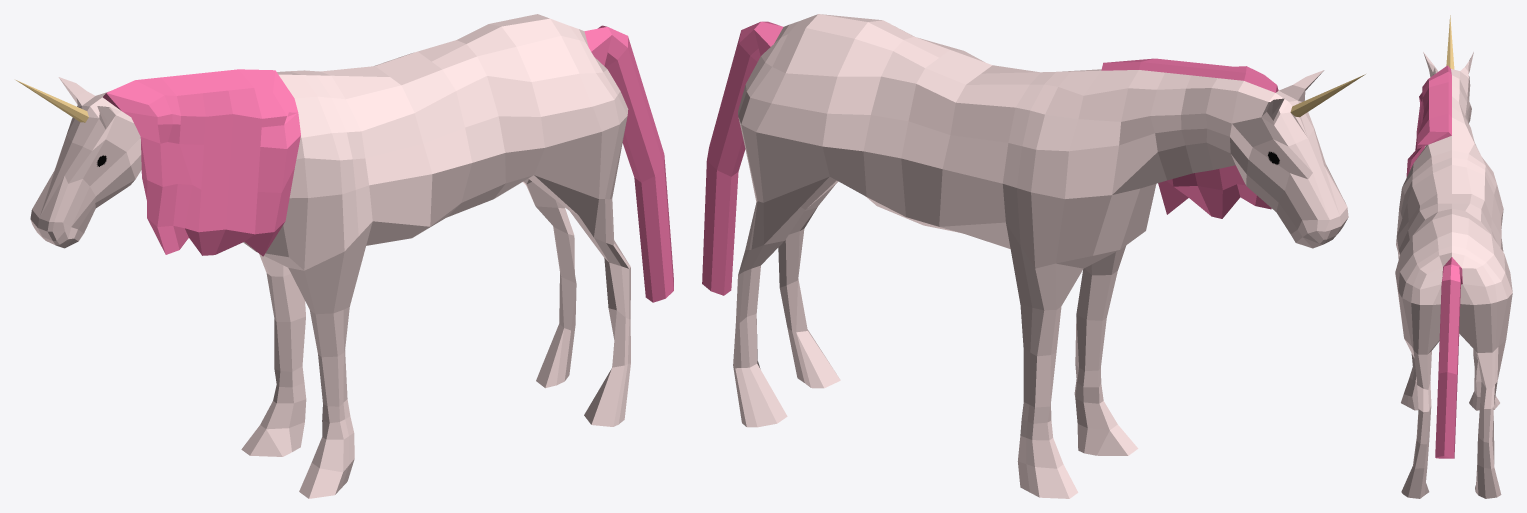
Rendered from unicorn.fbx.
3 views of the same model, side by side, from view 1: azimuth 30°, elevation 25°; view 2: azimuth 150°, elevation 25°; view 3: azimuth 270°, elevation 25° (orthographic). The views are drawn at different scales.
Parts seen in each view (by area): view 1: Cube; view 2: Cube; view 3: Cube.
Part boxes in pixels (<box>): Cube: <box>16,14,673,498</box>; Cube: <box>702,14,1365,498</box>; Cube: <box>1395,15,1512,498</box>.
Bounding box in the file's own units: 181 × 121 × 43.14.
1 material, 1 textured.
